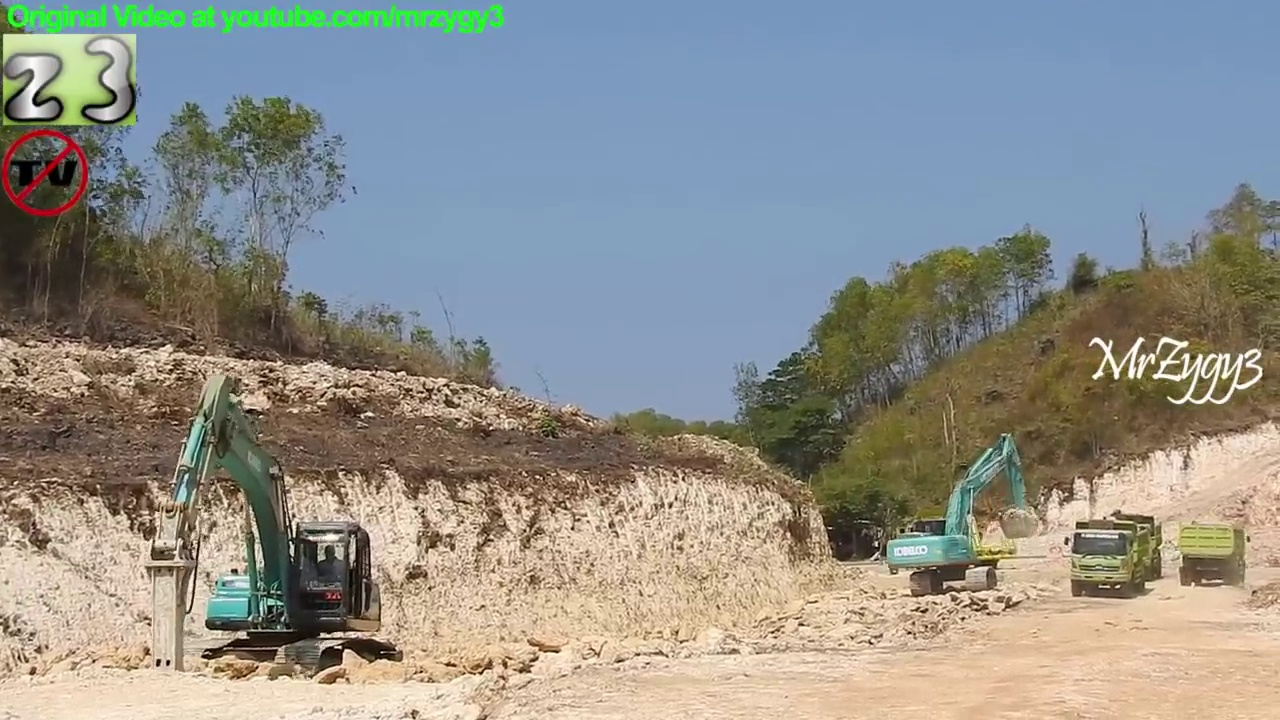excavator: (884, 426, 1044, 596)
excavator breaker: (143, 372, 410, 686)
truck: (1065, 516, 1151, 598), (1084, 507, 1167, 588), (1175, 520, 1255, 593)
